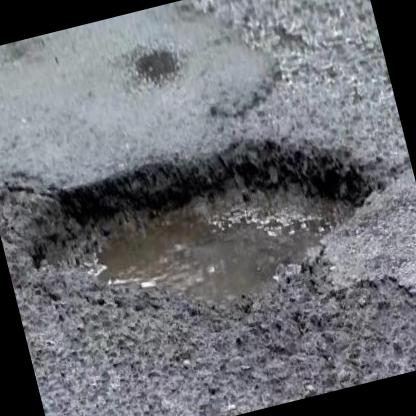pothole: (9, 100, 410, 360), (126, 34, 188, 94)
